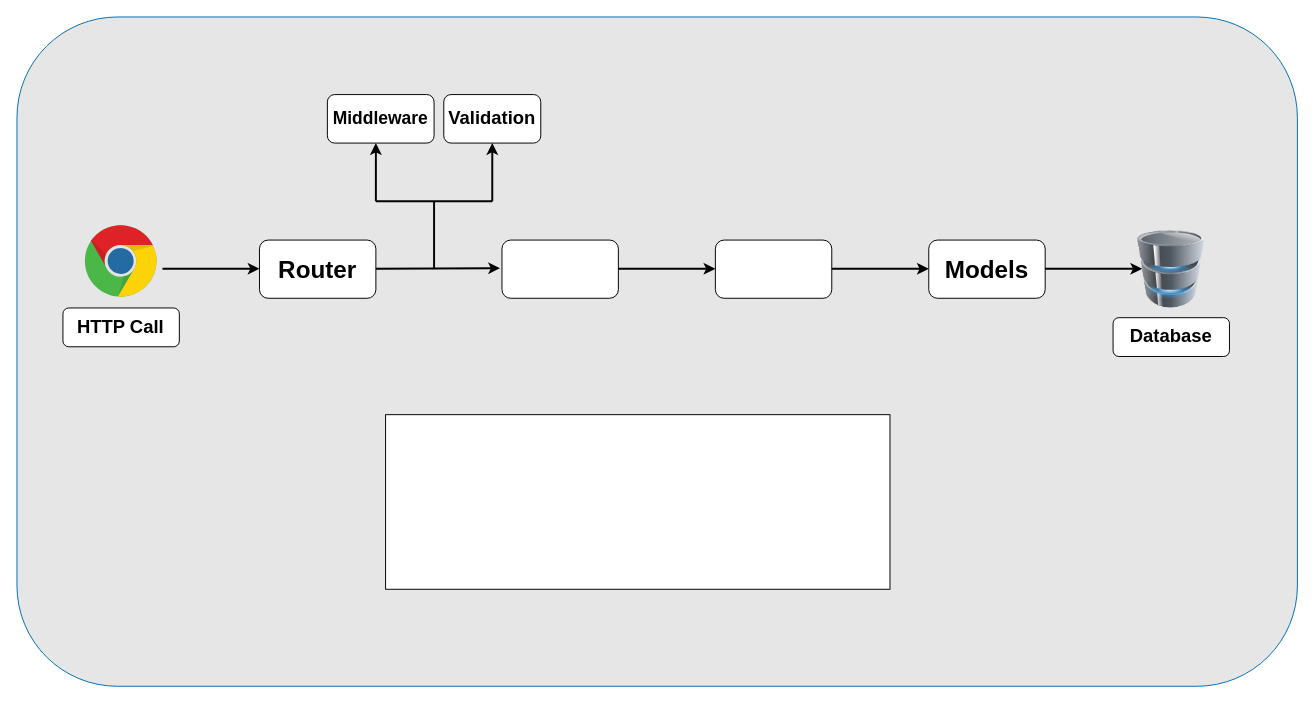
Image size: 1314x703. Some labels were removed from this diagram. Each missing label, with the centre of its shape:
Controller: the point at 559,268
RESTful API Code Flow: the point at 637,501
Services: the point at 773,268
